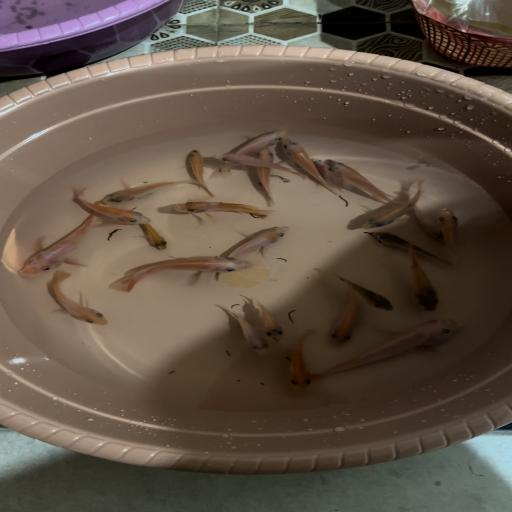nila: (316, 317, 459, 383), (14, 213, 110, 279), (106, 254, 255, 295), (38, 271, 113, 329), (315, 262, 396, 311), (212, 129, 288, 178), (321, 157, 398, 204), (364, 230, 458, 268), (359, 180, 427, 231), (207, 304, 273, 356), (64, 188, 154, 226), (397, 249, 447, 314), (100, 176, 203, 207), (230, 223, 296, 264), (398, 191, 448, 245), (278, 138, 330, 187), (285, 329, 323, 395), (222, 153, 308, 181), (167, 199, 278, 220), (324, 293, 365, 349), (183, 147, 218, 197), (432, 208, 467, 255), (252, 147, 278, 205), (258, 298, 290, 344), (138, 223, 172, 257), (307, 156, 331, 181)
